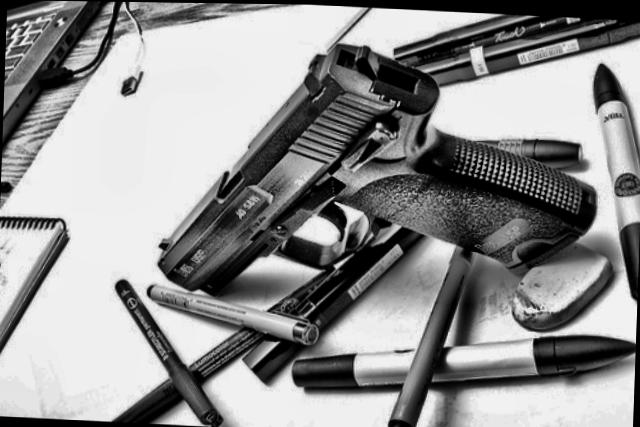pistol: (150, 30, 600, 313)
